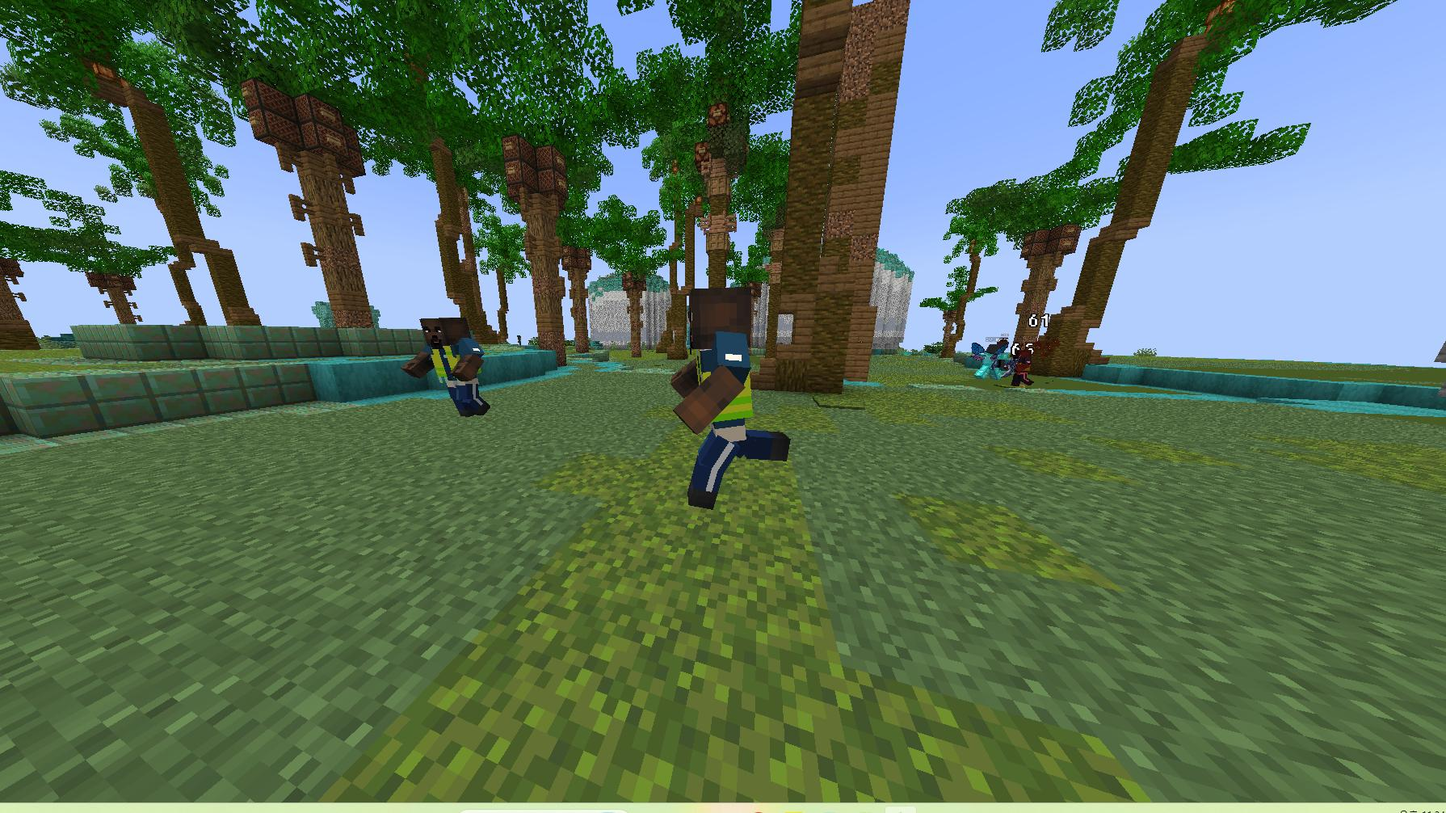Guardian: (670, 287, 789, 508), (402, 316, 490, 415)
